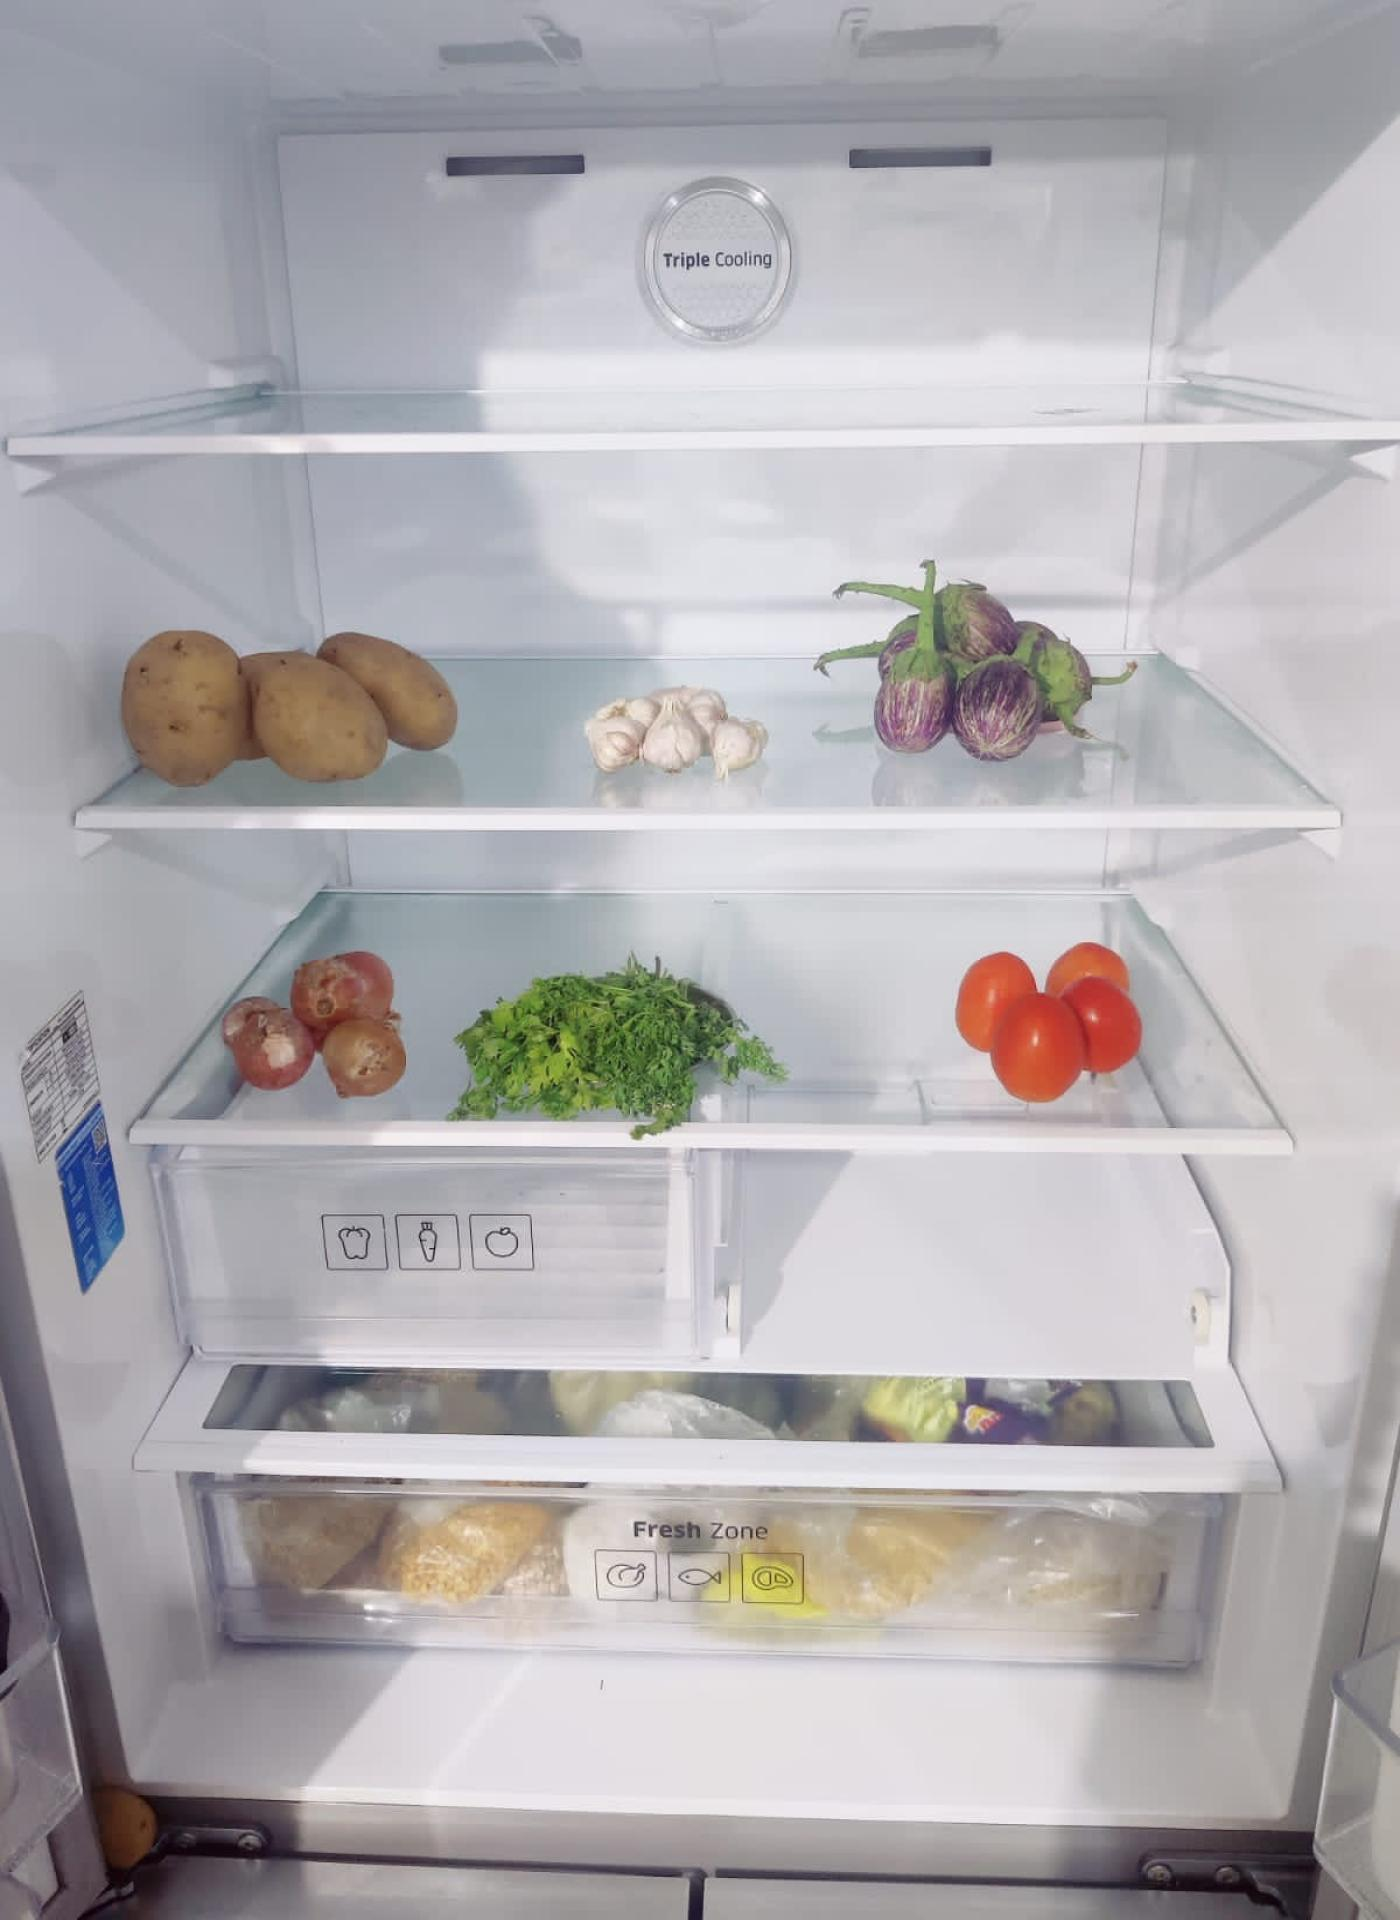brinjal: (877, 578, 1085, 757)
coriander: (461, 964, 783, 1117)
garlic: (587, 674, 768, 766)
onion: (227, 953, 412, 1096)
potato: (116, 619, 459, 777)
tomato: (951, 944, 1144, 1105)
